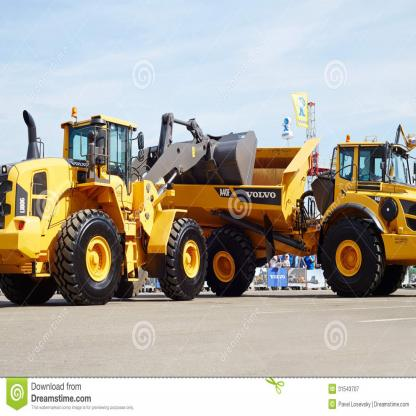bull_dozer/loader/grader: (5, 93, 258, 302)
